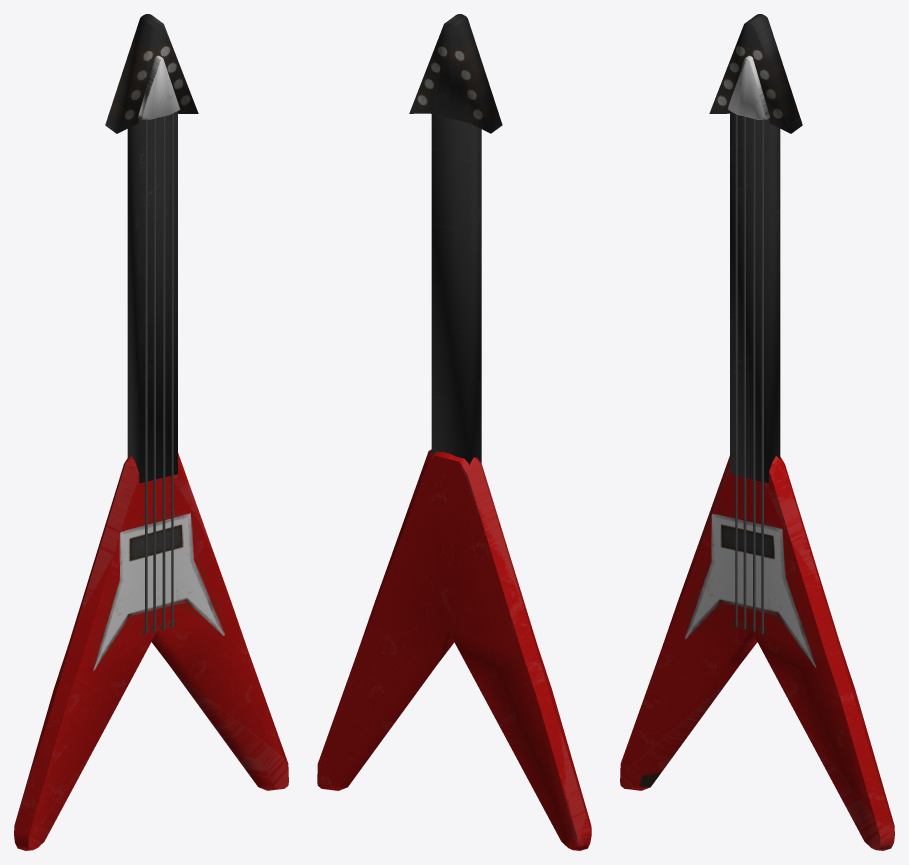
The model's file is Guitar.fbx.
3 renders of one model, left to right at view 1: azimuth 30°, elevation 25°; view 2: azimuth 150°, elevation 25°; view 3: azimuth 330°, elevation 25°, orthographic.
Parts seen in each view (by area): view 1: Guitar; view 2: Guitar; view 3: Guitar.
Boxes of the visible parts, left/top/right/bottom form: Guitar: left=14, top=14, right=288, bottom=850; Guitar: left=317, top=14, right=591, bottom=850; Guitar: left=620, top=14, right=894, bottom=850.
Bounding box in the file's own units: 2483 × 6955 × 272.
